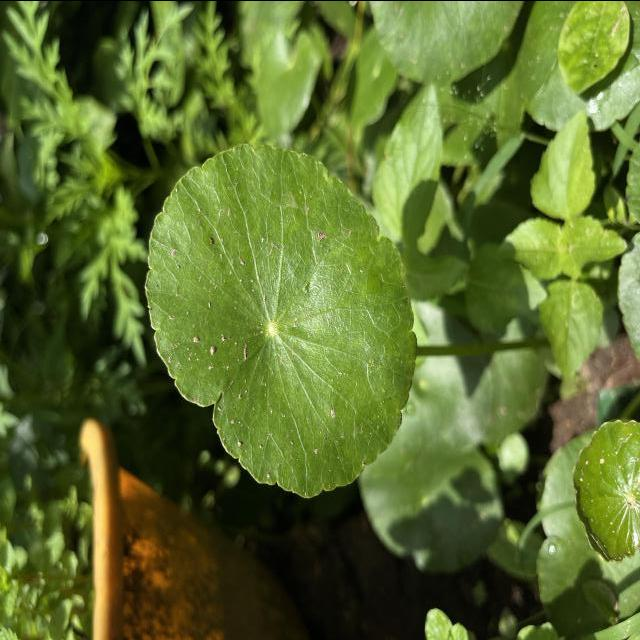Bacopa monnieri: (140, 140, 420, 500), (570, 416, 640, 564)
